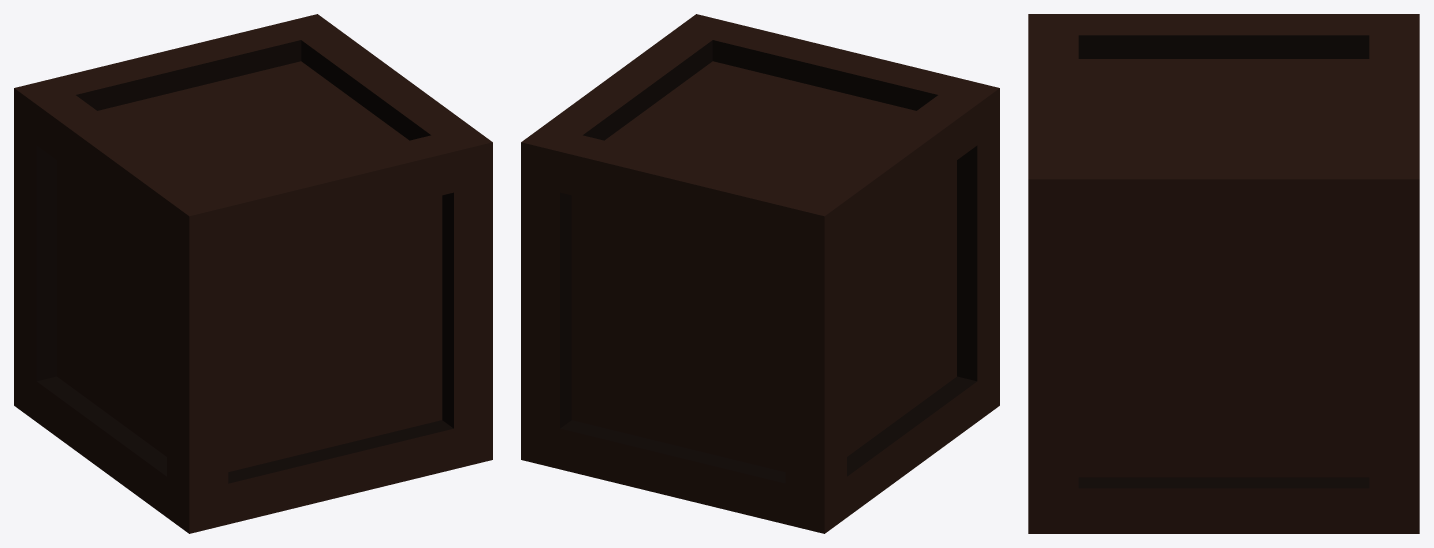
The model's file is WoodBox02.fbx.
3 renders of one model, left to right at view 1: azimuth 30°, elevation 25°; view 2: azimuth 150°, elevation 25°; view 3: azimuth 270°, elevation 25°, orthographic. The views are drawn at different scales.
Visible parts, largest first — view 1: WoodBox02; view 2: WoodBox02; view 3: WoodBox02.
Part boxes in pixels (left/top/right/bottom): WoodBox02: left=14, top=14, right=492, bottom=533; WoodBox02: left=521, top=14, right=999, bottom=533; WoodBox02: left=1028, top=14, right=1419, bottom=533.
Size of the model in its own units: 34 by 34 by 34.
